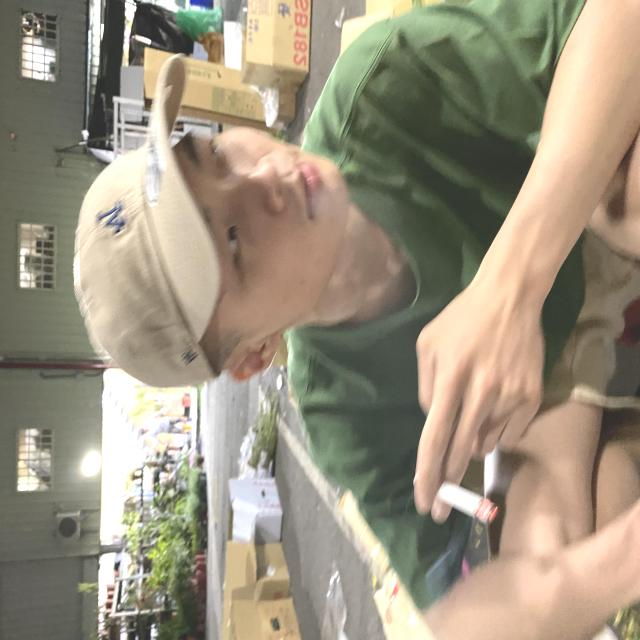smoke: (392, 461, 512, 533)
